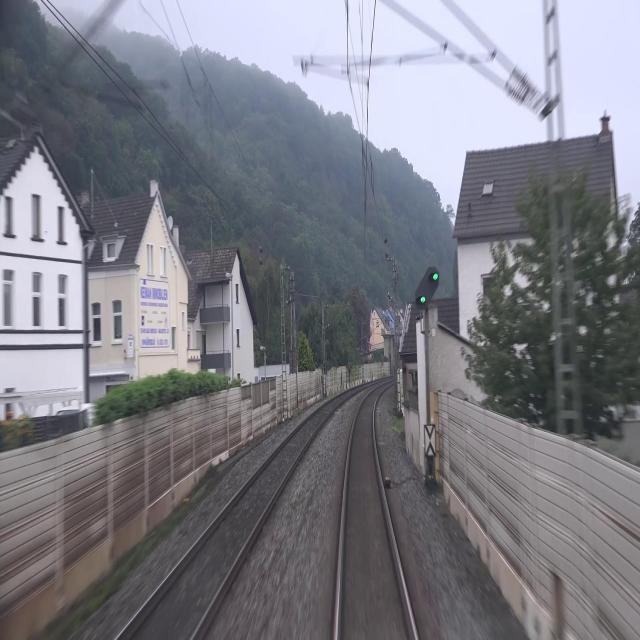rail-track: (118, 400, 336, 639), (339, 391, 413, 639)
